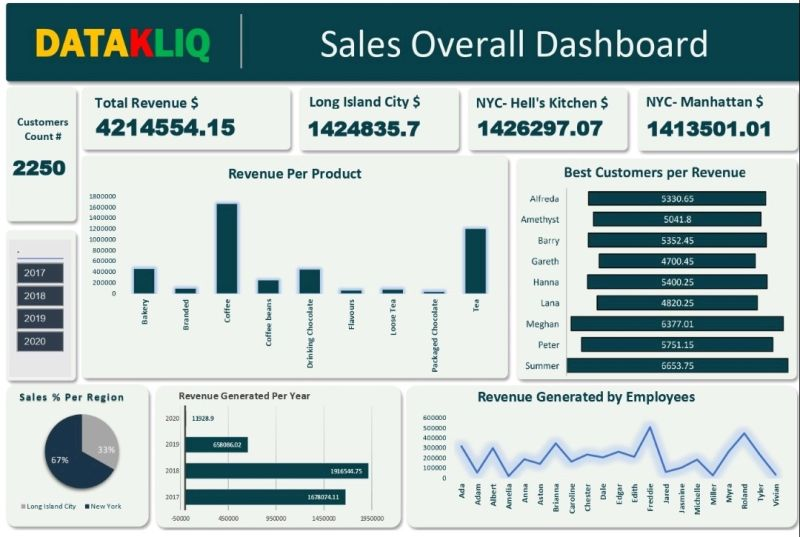

Layout of this report page (visuals, bound fields, positions):
{"tool":"powerbi","page":{"name":"OVERVIEW","canvas":[1480,860],"ordinal":0},"visuals":[{"type":"shape","box":[183.3,0,1297.2,145.8],"z":0},{"type":"shape","box":[1267.1,152.8,186.6,161.8],"z":0,"group":"g5"},{"type":"shape","box":[232.3,153.5,186.6,161.8],"z":0,"group":"g1"},{"type":"shape","box":[643.4,154.2,186.6,161.8],"z":0,"group":"g3"},{"type":"shape","box":[847.6,154.2,186.6,161.8],"z":0,"group":"g4"},{"type":"shape","box":[1056.4,154.4,186.6,161.8],"z":0,"group":"g6"},{"type":"shape","box":[437.8,155.5,186.6,161.8],"z":0,"group":"g2"},{"type":"shape","box":[1267.1,152.8,203.8,175.2],"z":1000,"group":"g5"},{"type":"group","id":"g1","title":"Group 1","box":[232.3,153.5,203.8,175.2],"z":1000},{"type":"shape","box":[232.3,153.5,203.8,175.2],"z":1000,"group":"g1"},{"type":"shape","box":[643.4,154.2,203.8,175.2],"z":1000,"group":"g3"},{"type":"shape","box":[847.6,154.2,203.8,175.2],"z":1000,"group":"g4"},{"type":"shape","box":[1056.4,154.4,203.8,175.2],"z":1000,"group":"g6"},{"type":"shape","box":[437.8,155.5,203.8,175.2],"z":1000,"group":"g2"},{"type":"group","id":"g2","title":"Group 1","box":[437.8,155.5,203.8,175.2],"z":2000},{"type":"group","id":"g3","title":"Group 1","box":[643.4,154.2,203.8,175.2],"z":3000},{"type":"group","id":"g4","title":"Group 1","box":[847.6,154.2,203.8,175.2],"z":4000},{"type":"group","id":"g5","title":"Group 1","box":[1267.1,152.8,204.2,175],"z":5000},{"type":"group","id":"g6","title":"Group 1","box":[1056.4,154.4,204.2,176.4],"z":6000},{"type":"slicer","fields":{"Values":["Crime-Statistics-Summary-Ministry-of-Police-Affairs FOR 3 YEARS.GEO-POLITICAL ZONES","Crime-Statistics-Summary-Ministry-of-Police-Affairs FOR 3 YEARS.STATE"]},"box":[950,18.1,365.3,111.1],"z":7000},{"type":"shape","box":[0,0,210.3,860.3],"z":8000},{"type":"shape","box":[0,0,210.3,193.6],"z":9000},{"type":"map","title":"TOTAL CASES REPORTED IN NIGERIA","fields":{"Category":["Crime-Statistics-Summary-Ministry-of-Police-Affairs FOR 3 YEARS.STATE"],"Size":["Sum(Crime-Statistics-Summary-Ministry-of-Police-Affairs FOR 3 YEARS.TOTAL CASES REPORTED)"]},"box":[224.8,325.5,522.9,529.9],"z":10000},{"type":"card","fields":{"Values":["Sum(Crime-Statistics-Summary-Ministry-of-Police-Affairs FOR 3 YEARS.TOTAL CASES REPORTED)"]},"box":[29.2,418.1,152.8,118.1],"z":11000},{"type":"card","fields":{"Values":["Sum(Crime-Statistics-Summary-Ministry-of-Police-Affairs FOR 3 YEARS.TOTAL CASES REPORTED)"]},"box":[30.8,556.6,153.3,117.8],"z":12000},{"type":"card","fields":{"Values":["Sum(Crime-Statistics-Summary-Ministry-of-Police-Affairs FOR 3 YEARS.TOTAL CASES REPORTED)"]},"box":[30.6,695.8,154.2,116.7],"z":13000},{"type":"shape","box":[3.4,872.4,210.3,206.9],"z":14000},{"type":"shape","box":[0,193.6,210.3,193.6],"z":15000},{"type":"card","title":"ARMED ROBBERY","fields":{"Values":["Sum(Crime-Statistics-Summary-Ministry-of-Police-Affairs FOR 3 YEARS.ARMED ROBBERYCASES (JAN-DEC))"]},"box":[243.1,170.8,181.9,68.1],"z":16000},{"type":"lineChart","fields":{"Y":["Sum(Crime-Statistics-Summary-Ministry-of-Police-Affairs FOR 3 YEARS.ARMED ROBBERYCASES (JAN-DEC))"],"Category":["Crime-Statistics-Summary-Ministry-of-Police-Affairs FOR 3 YEARS.YEAR"]},"box":[243.1,212.5,181.9,112.5],"z":17000},{"type":"card","title":"ARMED BANDITORY","fields":{"Values":["Sum(Crime-Statistics-Summary-Ministry-of-Police-Affairs FOR 3 YEARS.ARMEDBANDITRY OCCCURRENCE (JAN-DEC))"]},"box":[448.6,170.8,181.9,68.1],"z":18000},{"type":"card","title":"KIDNAPPING","fields":{"Values":["Sum(Crime-Statistics-Summary-Ministry-of-Police-Affairs FOR 3 YEARS.KIDNAPPINGCASES (JAN-DEC))"]},"box":[656.9,170.8,181.9,68.1],"z":19000},{"type":"card","title":"MURDER","fields":{"Values":["Sum(Crime-Statistics-Summary-Ministry-of-Police-Affairs FOR 3 YEARS.MURDERCASES (JAN-DEC))"]},"box":[861.1,172.2,181.9,68.1],"z":20000},{"type":"card","title":"TERRORISM","fields":{"Values":["Sum(Crime-Statistics-Summary-Ministry-of-Police-Affairs FOR 3 YEARS.TERRORRISM/SECESSIONISTSATTACK (JAN-DEC))"]},"box":[1068.1,173.6,183.3,68.1],"z":21000},{"type":"card","title":"OTHERS","fields":{"Values":["Sum(Crime-Statistics-Summary-Ministry-of-Police-Affairs FOR 3 YEARS.OTHERS (JAN-DEC))"]},"box":[1277.8,172.2,183.3,68.1],"z":22000},{"type":"lineChart","fields":{"Y":["Sum(Crime-Statistics-Summary-Ministry-of-Police-Affairs FOR 3 YEARS.ARMEDBANDITRY OCCCURRENCE (JAN-DEC))"],"Category":["Crime-Statistics-Summary-Ministry-of-Police-Affairs FOR 3 YEARS.YEAR"]},"box":[448.6,211.1,172.2,112.5],"z":23000},{"type":"lineChart","fields":{"Y":["Sum(Crime-Statistics-Summary-Ministry-of-Police-Affairs FOR 3 YEARS.KIDNAPPINGCASES (JAN-DEC))"],"Category":["Crime-Statistics-Summary-Ministry-of-Police-Affairs FOR 3 YEARS.YEAR"]},"box":[652.8,209.7,180.6,112.5],"z":24000},{"type":"lineChart","fields":{"Y":["Sum(Crime-Statistics-Summary-Ministry-of-Police-Affairs FOR 3 YEARS.MURDERCASES (JAN-DEC))"],"Category":["Crime-Statistics-Summary-Ministry-of-Police-Affairs FOR 3 YEARS.YEAR"]},"box":[861.1,209.7,177.8,112.5],"z":25000},{"type":"lineChart","fields":{"Y":["Sum(Crime-Statistics-Summary-Ministry-of-Police-Affairs FOR 3 YEARS.TERRORRISM/SECESSIONISTSATTACK (JAN-DEC))"],"Category":["Crime-Statistics-Summary-Ministry-of-Police-Affairs FOR 3 YEARS.YEAR"]},"box":[1065.3,209.7,187.5,112.5],"z":26000},{"type":"lineChart","fields":{"Y":["Sum(Crime-Statistics-Summary-Ministry-of-Police-Affairs FOR 3 YEARS.OTHERS (JAN-DEC))"],"Category":["Crime-Statistics-Summary-Ministry-of-Police-Affairs FOR 3 YEARS.YEAR"]},"box":[1276.4,209.7,181.9,112.5],"z":27000},{"type":"image","box":[176.4,0,540.3,109.7],"z":28000},{"type":"textbox","box":[351.4,97.2,465.3,48.6],"z":29000},{"type":"image","box":[2.8,13.9,198.6,166.7],"z":30000},{"type":"card","fields":{"Values":["Sum(Crime-Statistics-Summary-Ministry-of-Police-Affairs FOR 3 YEARS.TOTAL CASES REPORTED)"]},"box":[5.6,200,198.6,179.2],"z":31000},{"type":"clusteredColumnChart","title":"CASES REPORTED IN DIFFERENT STATES","fields":{"Category":["Crime-Statistics-Summary-Ministry-of-Police-Affairs FOR 3 YEARS.STATE"],"Y":["Sum(Crime-Statistics-Summary-Ministry-of-Police-Affairs FOR 3 YEARS.TOTAL CASES REPORTED)"]},"box":[752.8,326.4,725,530.6],"z":32000}]}

Visuals, with their boxes on the page's 1480x860 design canvas (x1, y1, x2, y2). These are canvas units, not pixel positions in the 800x537 screenshot, which may show the page scaled, cropped or inside an application window:
shape: locate(183, 0, 1480, 146)
shape: locate(1267, 153, 1454, 315)
shape: locate(232, 154, 419, 315)
shape: locate(643, 154, 830, 316)
shape: locate(848, 154, 1034, 316)
shape: locate(1056, 154, 1243, 316)
shape: locate(438, 156, 624, 317)
shape: locate(1267, 153, 1471, 328)
"Group 1" group: locate(232, 154, 436, 329)
shape: locate(232, 154, 436, 329)
shape: locate(643, 154, 847, 329)
shape: locate(848, 154, 1051, 329)
shape: locate(1056, 154, 1260, 330)
shape: locate(438, 156, 642, 331)
"Group 1" group: locate(438, 156, 642, 331)
"Group 1" group: locate(643, 154, 847, 329)
"Group 1" group: locate(848, 154, 1051, 329)
"Group 1" group: locate(1267, 153, 1471, 328)
"Group 1" group: locate(1056, 154, 1261, 331)
slicer - Crime-Statistics-Summary-Ministry-of-Police-Affairs FOR 3 YEARS.GEO-POLITICAL ZONES x Crime-Statistics-Summary-Ministry-of-Police-Affairs FOR 3 YEARS.STATE: locate(950, 18, 1315, 129)
shape: locate(0, 0, 210, 860)
shape: locate(0, 0, 210, 194)
"TOTAL CASES REPORTED IN NIGERIA" map: locate(225, 326, 748, 855)
card - Sum(Crime-Statistics-Summary-Ministry-of-Police-Affairs FOR 3 YEARS.TOTAL CASES REPORTED): locate(29, 418, 182, 536)
card - Sum(Crime-Statistics-Summary-Ministry-of-Police-Affairs FOR 3 YEARS.TOTAL CASES REPORTED): locate(31, 557, 184, 674)
card - Sum(Crime-Statistics-Summary-Ministry-of-Police-Affairs FOR 3 YEARS.TOTAL CASES REPORTED): locate(31, 696, 185, 812)
shape: locate(3, 872, 214, 1079)
shape: locate(0, 194, 210, 387)
"ARMED ROBBERY" card: locate(243, 171, 425, 239)
lineChart - Sum(Crime-Statistics-Summary-Ministry-of-Police-Affairs FOR 3 YEARS.ARMED ROBBERYCASES (JAN-DEC)) x Crime-Statistics-Summary-Ministry-of-Police-Affairs FOR 3 YEARS.YEAR: locate(243, 212, 425, 325)
"ARMED BANDITORY" card: locate(449, 171, 630, 239)
"KIDNAPPING" card: locate(657, 171, 839, 239)
"MURDER" card: locate(861, 172, 1043, 240)
"TERRORISM" card: locate(1068, 174, 1251, 242)
"OTHERS" card: locate(1278, 172, 1461, 240)
lineChart - Sum(Crime-Statistics-Summary-Ministry-of-Police-Affairs FOR 3 YEARS.ARMEDBANDITRY OCCCURRENCE (JAN-DEC)) x Crime-Statistics-Summary-Ministry-of-Police-Affairs FOR 3 YEARS.YEAR: locate(449, 211, 621, 324)
lineChart - Sum(Crime-Statistics-Summary-Ministry-of-Police-Affairs FOR 3 YEARS.KIDNAPPINGCASES (JAN-DEC)) x Crime-Statistics-Summary-Ministry-of-Police-Affairs FOR 3 YEARS.YEAR: locate(653, 210, 833, 322)
lineChart - Sum(Crime-Statistics-Summary-Ministry-of-Police-Affairs FOR 3 YEARS.MURDERCASES (JAN-DEC)) x Crime-Statistics-Summary-Ministry-of-Police-Affairs FOR 3 YEARS.YEAR: locate(861, 210, 1039, 322)
lineChart - Sum(Crime-Statistics-Summary-Ministry-of-Police-Affairs FOR 3 YEARS.TERRORRISM/SECESSIONISTSATTACK (JAN-DEC)) x Crime-Statistics-Summary-Ministry-of-Police-Affairs FOR 3 YEARS.YEAR: locate(1065, 210, 1253, 322)
lineChart - Sum(Crime-Statistics-Summary-Ministry-of-Police-Affairs FOR 3 YEARS.OTHERS (JAN-DEC)) x Crime-Statistics-Summary-Ministry-of-Police-Affairs FOR 3 YEARS.YEAR: locate(1276, 210, 1458, 322)
image: locate(176, 0, 717, 110)
textbox: locate(351, 97, 817, 146)
image: locate(3, 14, 201, 181)
card - Sum(Crime-Statistics-Summary-Ministry-of-Police-Affairs FOR 3 YEARS.TOTAL CASES REPORTED): locate(6, 200, 204, 379)
"CASES REPORTED IN DIFFERENT STATES" clusteredColumnChart: locate(753, 326, 1478, 857)
